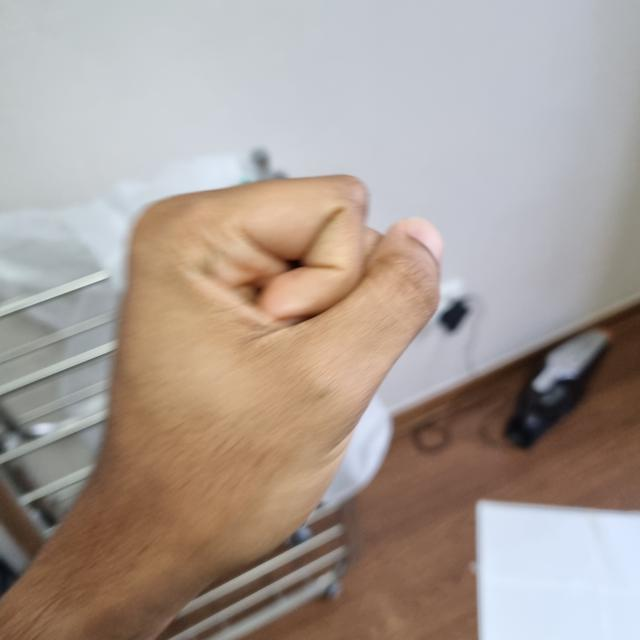Rock: (101, 172, 443, 569)
